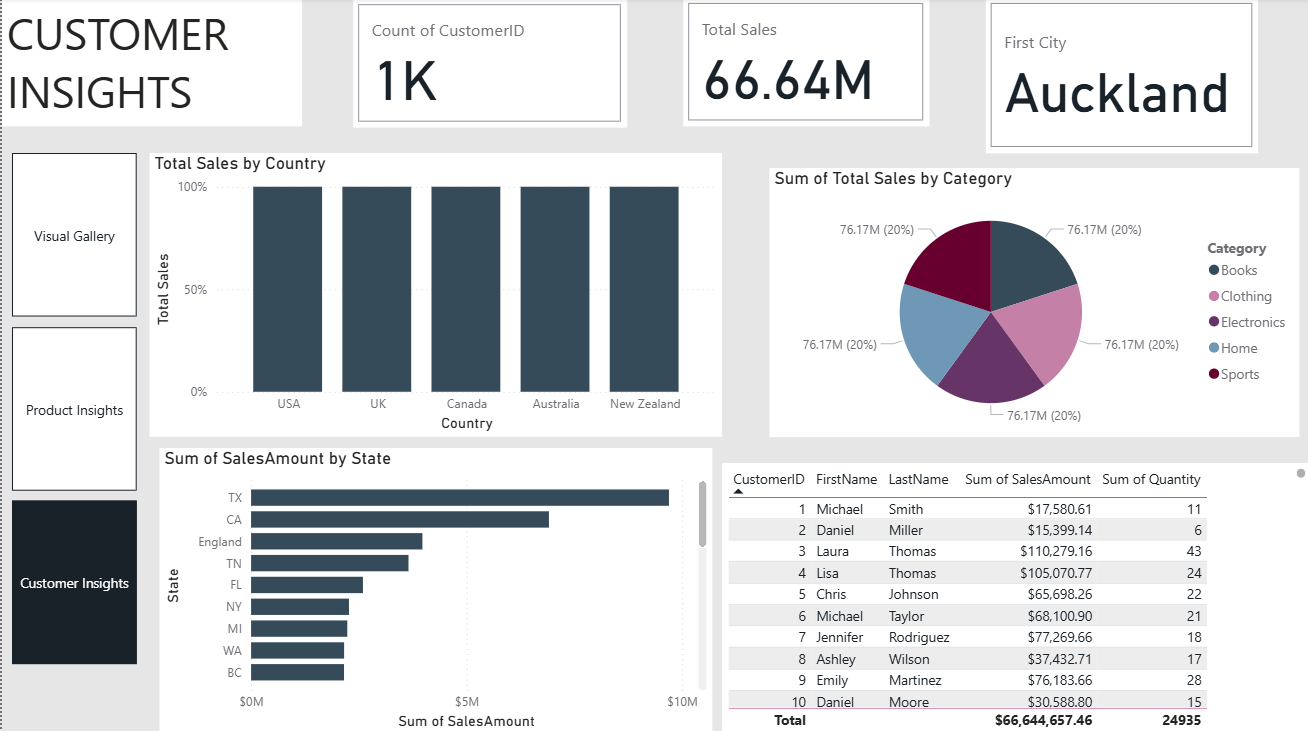

What the dashboard file says about the page in this screenshot:
{"tool":"powerbi","page":{"name":"Customer Insights","canvas":[1280,720],"ordinal":3},"visuals":[{"type":"tableEx","fields":{"Values":["Customers.CustomerID","Customers.FirstName","Customers.LastName","Sales.SalesAmount","Sales.Quantity"]},"box":[704.4,454.9,576,265.4],"z":0},{"type":"actionButton","box":[0,0,100,40],"z":1000},{"type":"cardVisual","fields":{"Data":["Customers.CustomerID"]},"box":[343.6,1.2,267.8,126],"z":2000},{"type":"cardVisual","fields":{"Data":["Customers.Total Sales"]},"box":[666.4,0,240.9,126],"z":3000},{"type":"barChart","fields":{"Y":["Sales.SalesAmount"],"Category":["Geography.State"]},"box":[154.1,440.2,540.5,280],"z":4000},{"type":"pieChart","fields":{"Y":["Sales Trend.Total Sales"],"Category":["Products.Category"]},"box":[750.8,166.3,518.5,262.9],"z":5000},{"type":"cardVisual","fields":{"Data":["Customers.City"]},"box":[962.4,0,266.6,151.6],"z":5001},{"type":"hundredPercentStackedColumnChart","fields":{"Category":["Customers.Country"],"Y":["Customers.Total Sales"]},"box":[144.3,151.6,560.1,277.6],"z":5002},{"type":"textbox","box":[0,0,293.5,126],"z":5003},{"type":"pageNavigator","box":[9.8,151.6,122.3,500.1],"z":5004}]}

Visuals, with their boxes in screenshot pixels (x1, y1, x2, y2), scaled from the page's 1280x720 canvas onto the 1308x731 screenshot:
tableEx - Customers.CustomerID x Customers.FirstName: l=720, t=462, r=1307, b=730
actionButton: l=0, t=0, r=102, b=41
cardVisual - Customers.CustomerID: l=351, t=1, r=625, b=129
cardVisual - Customers.Total Sales: l=681, t=0, r=927, b=128
barChart - Sales.SalesAmount x Geography.State: l=157, t=447, r=710, b=730
pieChart - Sales Trend.Total Sales x Products.Category: l=767, t=169, r=1297, b=436
cardVisual - Customers.City: l=983, t=0, r=1256, b=154
hundredPercentStackedColumnChart - Customers.Country x Customers.Total Sales: l=147, t=154, r=720, b=436
textbox: l=0, t=0, r=300, b=128
pageNavigator: l=10, t=154, r=135, b=662
